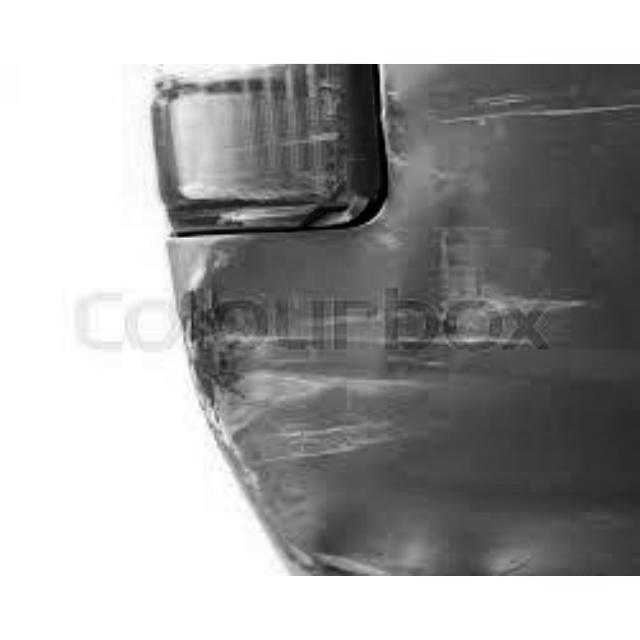rear-bumper-dent: (141, 65, 638, 574)
